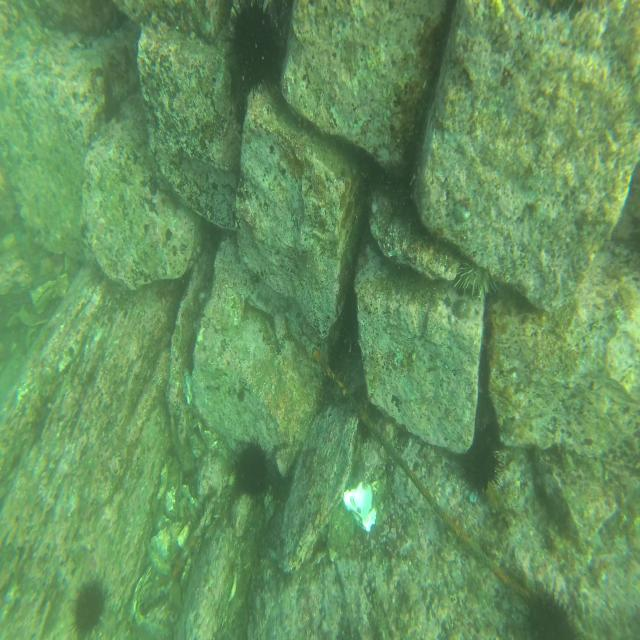echinus: (226, 0, 282, 90), (520, 584, 573, 640), (463, 431, 502, 497), (69, 575, 108, 640), (454, 251, 504, 299), (236, 436, 268, 495)
